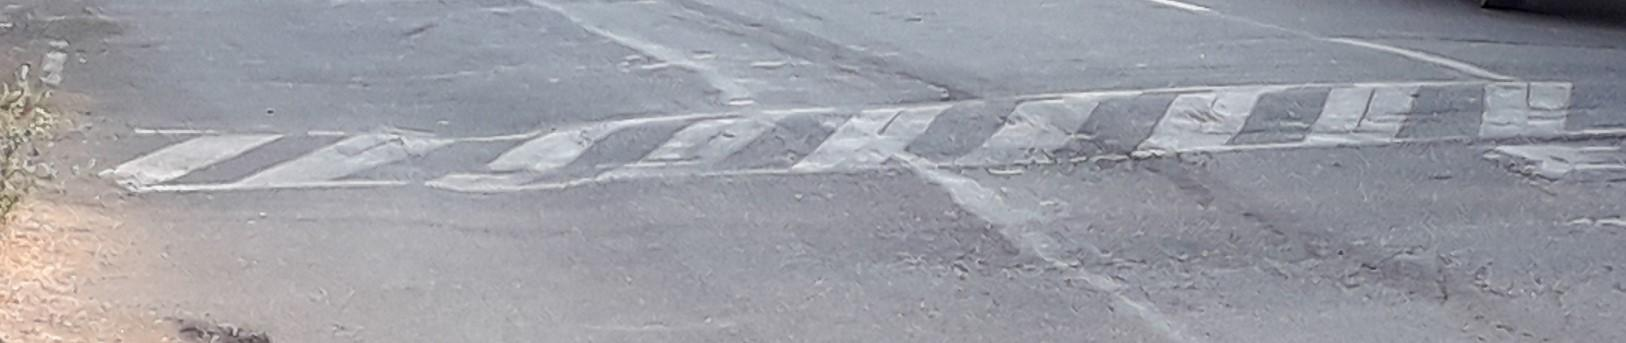speed-bump: (59, 71, 1622, 194)
